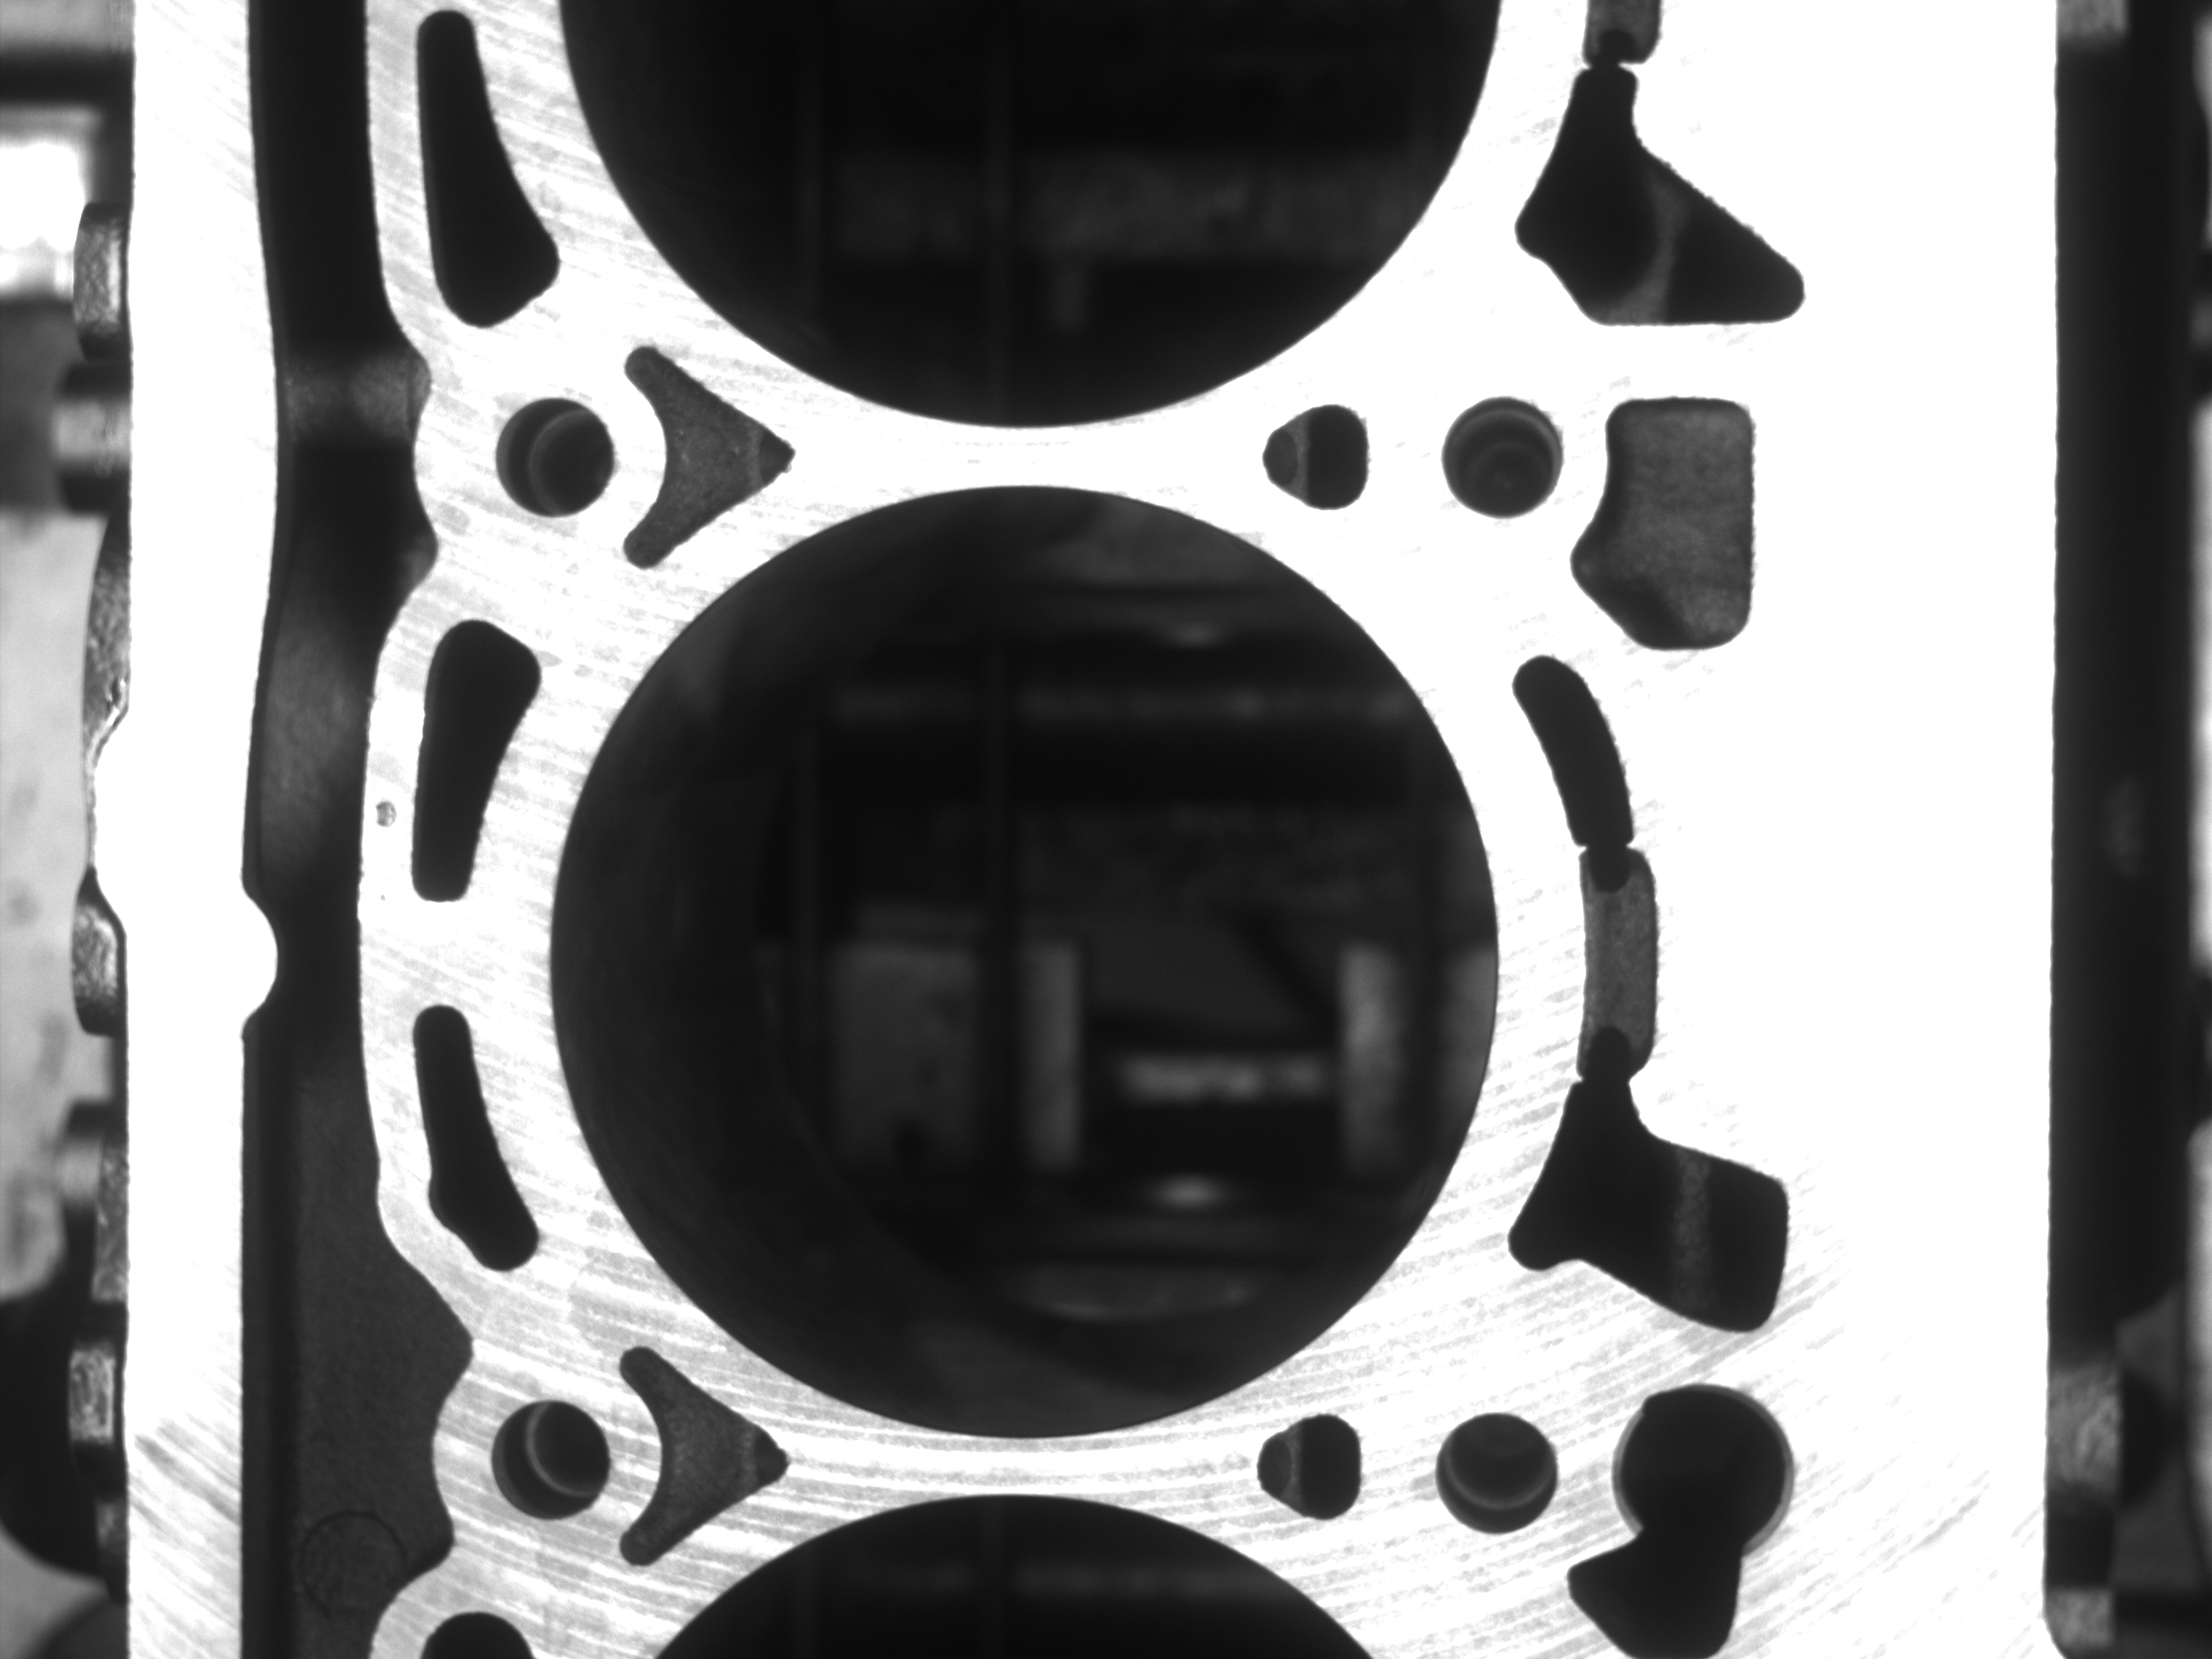crackle: (366, 789, 401, 835)
